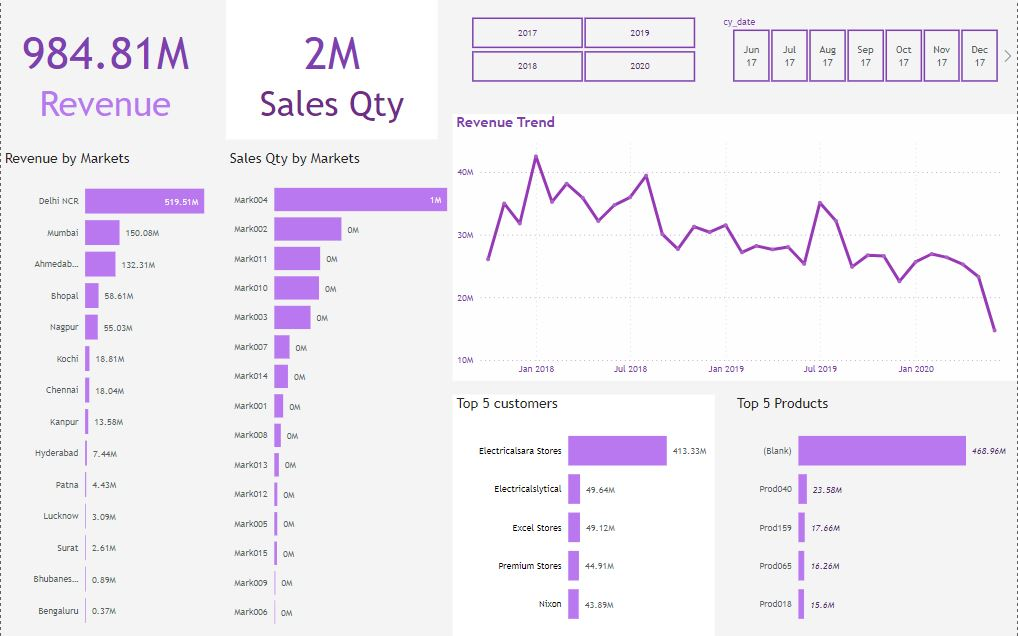

The page's visual inventory and layout, read from the dashboard file:
{"tool":"powerbi","page":{"name":"Page 1","canvas":[1350,850],"ordinal":0},"visuals":[{"type":"card","fields":{"Values":["BaseMeasures.Revenue"]},"box":[0,0,277.2,185.5],"z":0},{"type":"card","fields":{"Values":["BaseMeasures.Sales Qty"]},"box":[299.1,0,281.2,185.5],"z":1000},{"type":"barChart","title":"Revenue by Markets","fields":{"Y":["BaseMeasures.Revenue"],"Category":["sales markets.markets_name"]},"box":[0,198.5,299.8,651.2],"z":2000},{"type":"barChart","title":"Sales Qty by Markets","fields":{"Y":["BaseMeasures.Sales Qty"],"Category":["sales markets.markets_code"]},"box":[299.8,198.5,301.8,651.2],"z":3000},{"type":"slicer","fields":{"Values":["sales date.year"]},"box":[600.2,16,347,99.7],"z":4000},{"type":"slicer","fields":{"Values":["sales date.cy_date"]},"box":[947.8,15.9,402.2,99.6],"z":5000},{"type":"barChart","title":"Top 5 customers","fields":{"Y":["BaseMeasures.Revenue"],"Category":["sales customers.custmer_name"]},"box":[600.2,524.4,349,325],"z":6000},{"type":"barChart","title":"Top 5 Products","fields":{"Category":["sales products.product_code"],"Y":["BaseMeasures.Revenue"]},"box":[973.1,524.4,376.9,325],"z":7000},{"type":"lineChart","title":"Revenue Trend","fields":{"Y":["BaseMeasures.Revenue"],"Category":["sales date.cy_date.Variation.Date Hierarchy.Year","sales date.cy_date.Variation.Date Hierarchy.Quarter","sales date.cy_date.Variation.Date Hierarchy.Month","sales date.cy_date.Variation.Date Hierarchy.Day"]},"box":[600.2,151.6,749.8,354.9],"z":9000}]}

Visuals, with their boxes in screenshot pixels (x1, y1, x2, y2), scaled from the page's 1350x850 canvas onto the 1018x636 screenshot:
card - BaseMeasures.Revenue: select_region(0, 0, 209, 139)
card - BaseMeasures.Sales Qty: select_region(226, 0, 438, 139)
"Revenue by Markets" barChart: select_region(0, 149, 226, 635)
"Sales Qty by Markets" barChart: select_region(226, 149, 454, 635)
slicer - sales date.year: select_region(453, 12, 714, 87)
slicer - sales date.cy_date: select_region(715, 12, 1017, 86)
"Top 5 customers" barChart: select_region(453, 392, 716, 635)
"Top 5 Products" barChart: select_region(734, 392, 1017, 635)
"Revenue Trend" lineChart: select_region(453, 113, 1017, 379)
